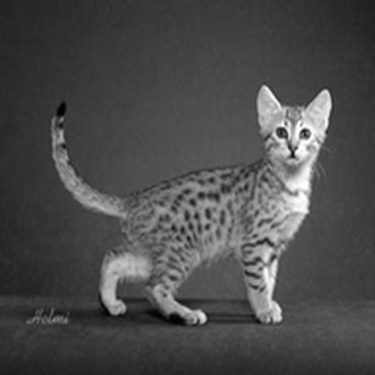cat: (20, 68, 341, 324)
